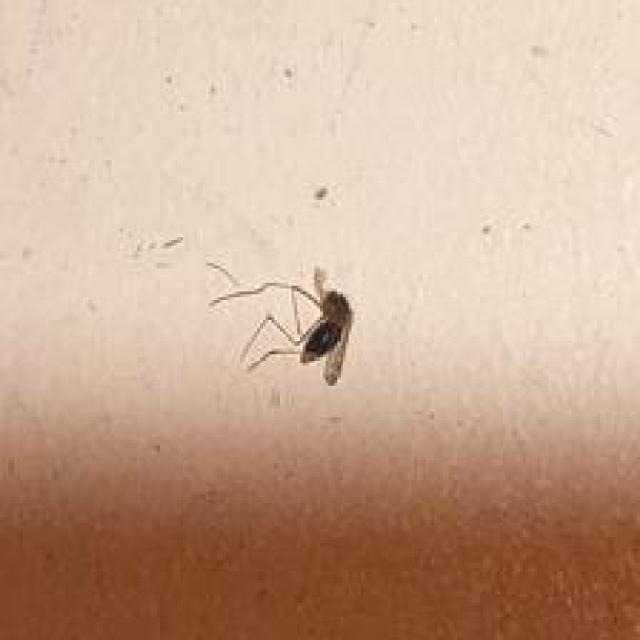Culex: (206, 260, 354, 386)
